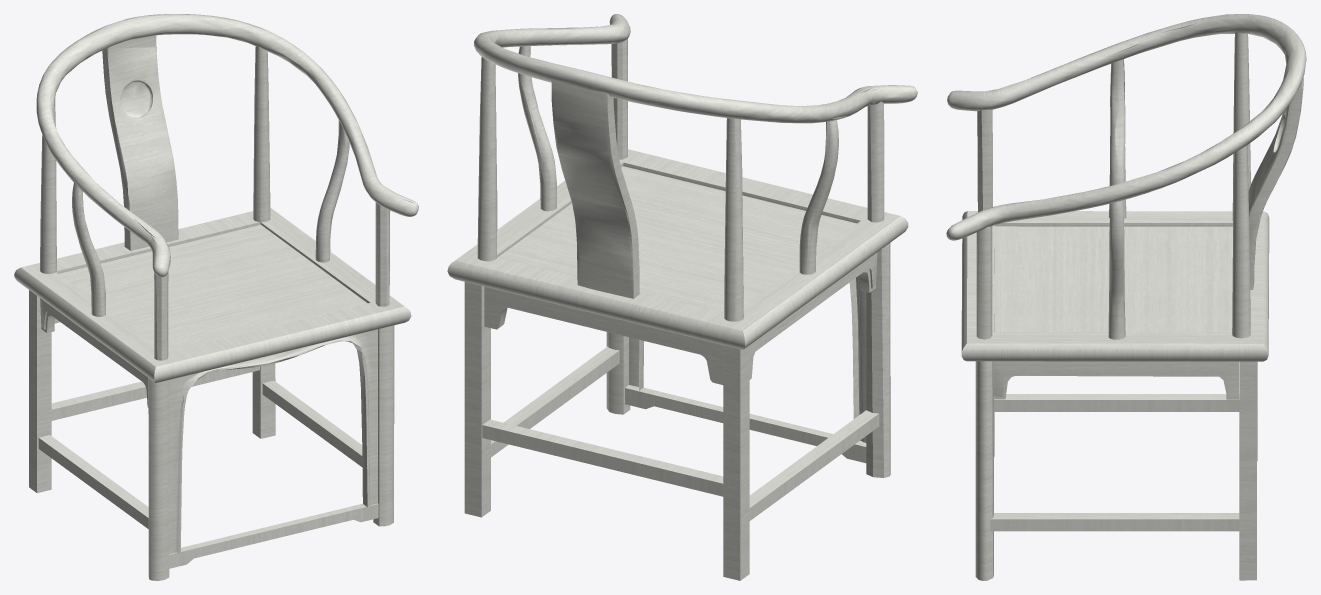
Rendered from Chair 1.FBX.
The picture shows the model from 3 angles, left to right: view 1: azimuth 30°, elevation 25°; view 2: azimuth 150°, elevation 25°; view 3: azimuth 270°, elevation 25°; orthographic projection. The views are drawn at different scales.
Visible parts, largest first — view 1: Chair 1; view 2: Chair 1; view 3: Chair 1.
Part boxes in pixels (bbox=[...]): Chair 1: bbox=[14, 14, 418, 580]; Chair 1: bbox=[447, 14, 917, 580]; Chair 1: bbox=[946, 14, 1306, 580].
Bounding box in the file's own units: 63.22 × 91.33 × 64.17.
